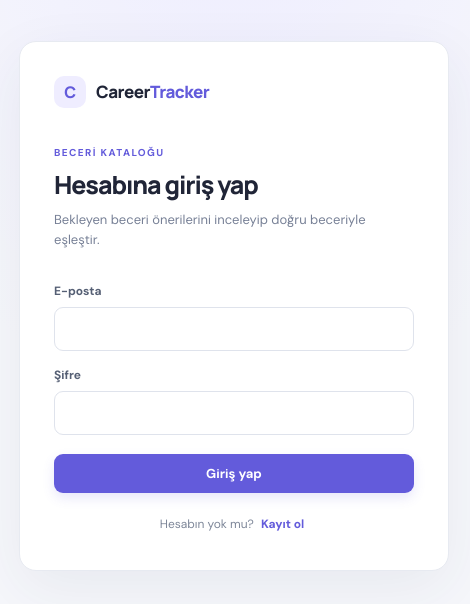
authenticated API requests › shows an email-in-use message when registration returns HTTP 409
Click the button "Kayıt ol" at [283, 524], box left=257, top=512, right=308, bottom=536
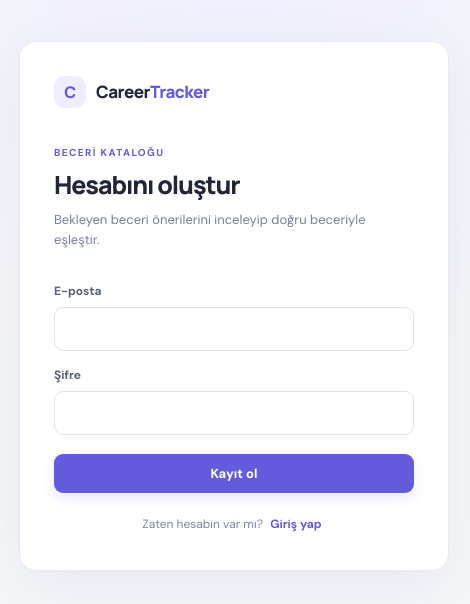
Type "taken@example.com" into the field labelled "E-posta" at [234, 329], box left=54, top=307, right=414, bottom=351
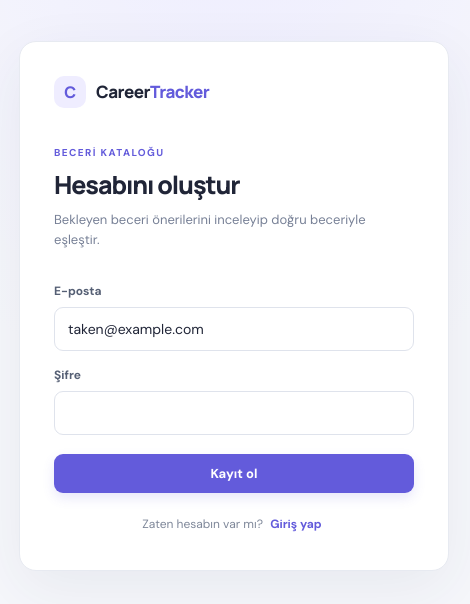
Type "StrongPass123" into the password field labelled "Şifre" at [234, 413], box left=54, top=391, right=414, bottom=435
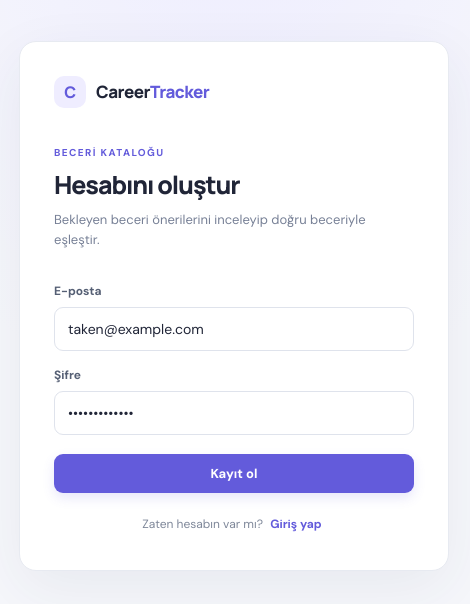
Click the button "Kayıt ol" at [234, 474], box left=54, top=454, right=414, bottom=493
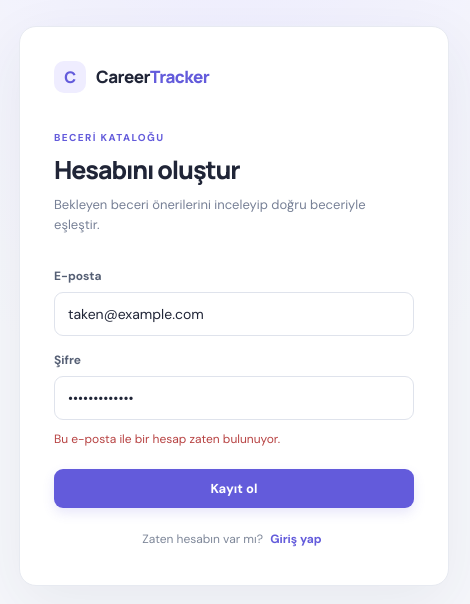
Result: the message shows "Bu e-posta ile bir hesap zaten bulunuyor" at left=54, top=431, right=280, bottom=447
